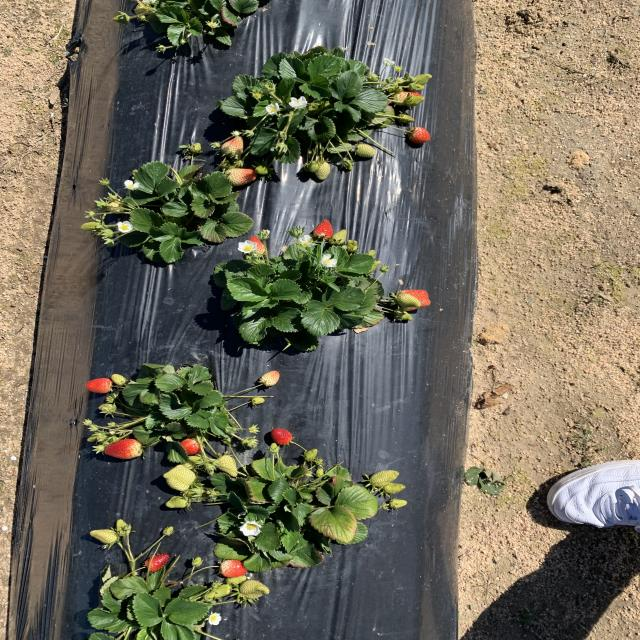unripe: (102, 439, 146, 458), (397, 290, 432, 309), (84, 377, 117, 395), (218, 560, 249, 576), (146, 553, 172, 571), (245, 236, 267, 256), (178, 437, 202, 454), (314, 219, 334, 239), (270, 428, 292, 444), (408, 127, 430, 143)
